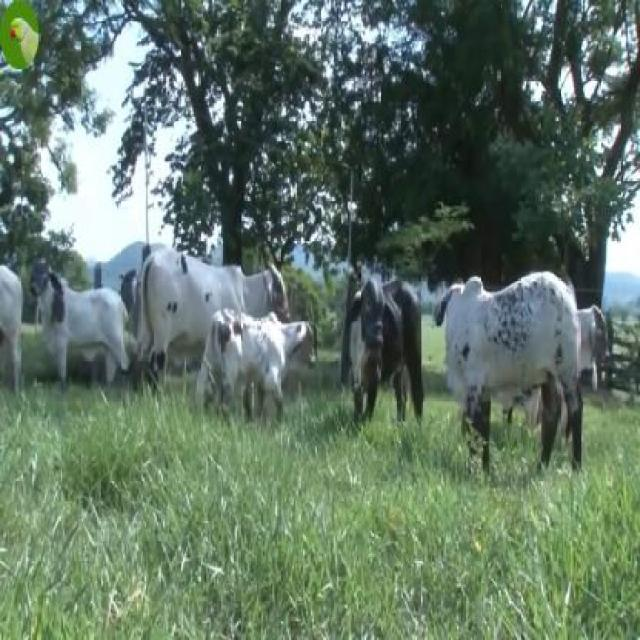Cow: (437, 274, 583, 469), (344, 276, 424, 424)
